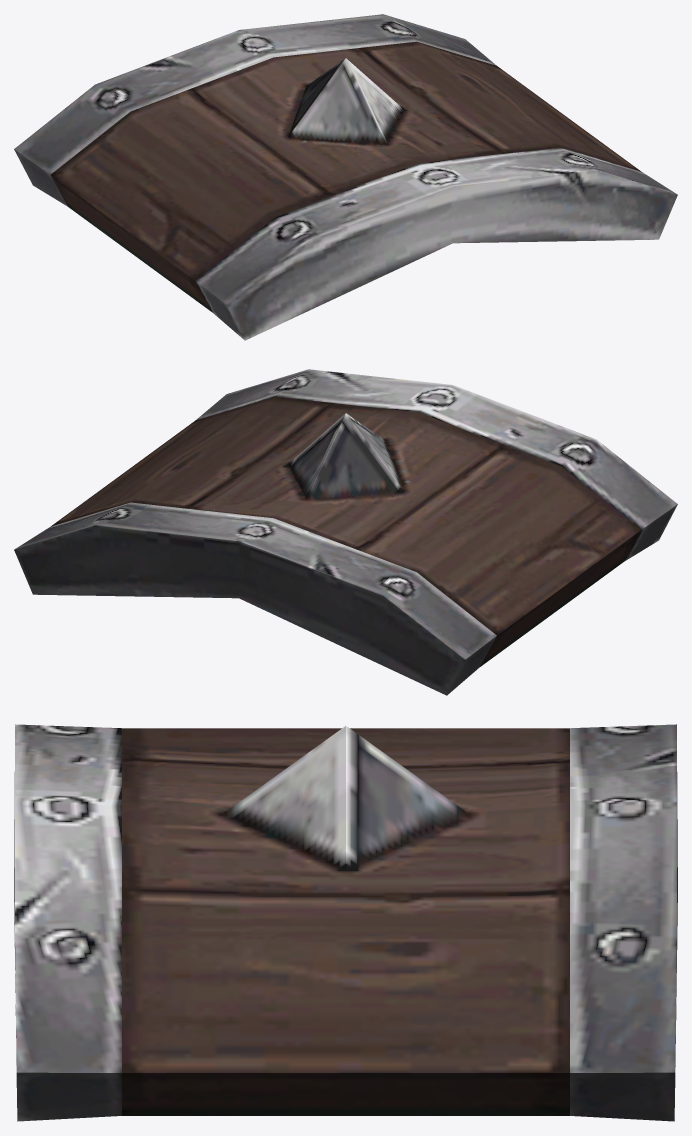
The model's file is mediumshield_010lv_01_o01.FBX.
3 renders of one model, top to bottom at view 1: azimuth 30°, elevation 25°; view 2: azimuth 150°, elevation 25°; view 3: azimuth 270°, elevation 25°, orthographic. The views are drawn at different scales.
Parts seen in each view (by area): view 1: mediumshield_010lv_01_o01; view 2: mediumshield_010lv_01_o01; view 3: mediumshield_010lv_01_o01.
Boxes of the visible parts, x1=… form: mediumshield_010lv_01_o01: x1=14, y1=14, x2=677, y2=340; mediumshield_010lv_01_o01: x1=14, y1=369, x2=677, y2=695; mediumshield_010lv_01_o01: x1=14, y1=724, x2=677, y2=1121.
Size of the model in its own units: 0.5087 by 0.1665 by 0.4184.
